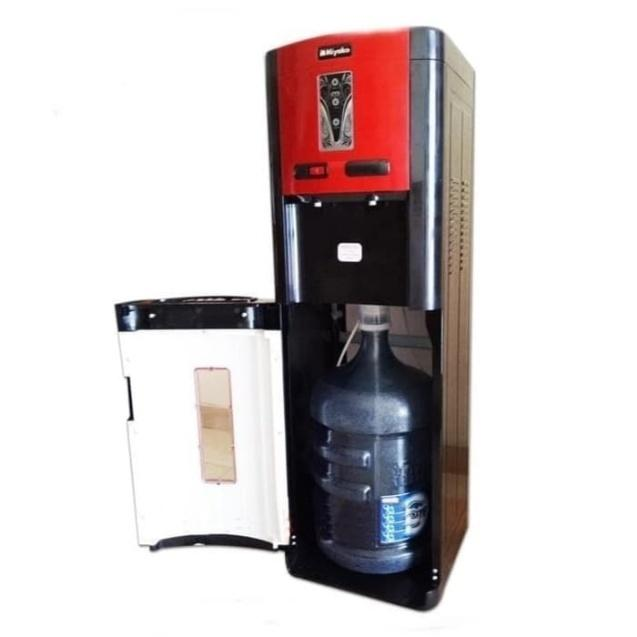Dispenser: (262, 26, 476, 612)
